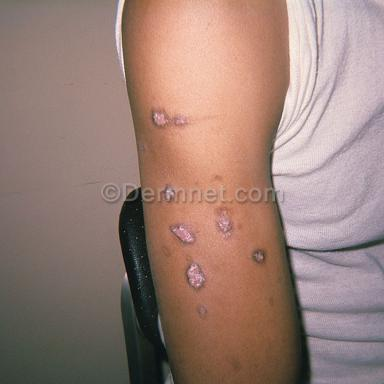Lupus-Erythematosus-Chronicus-Discoides: (152, 108, 191, 128), (184, 262, 205, 289), (216, 207, 233, 237), (171, 225, 195, 244), (252, 248, 265, 263), (198, 305, 208, 318), (138, 145, 146, 153)
